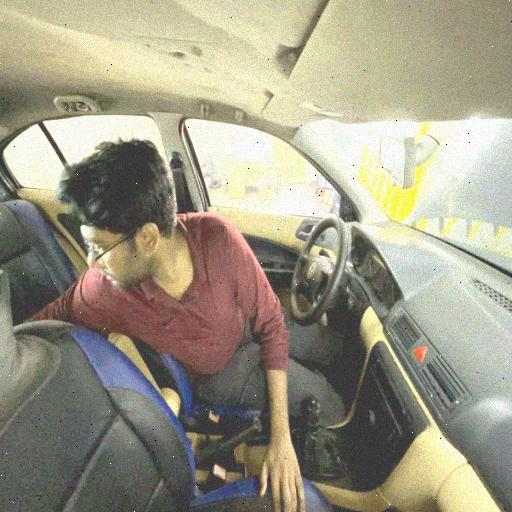Reaching_behind: (5, 128, 348, 485)
